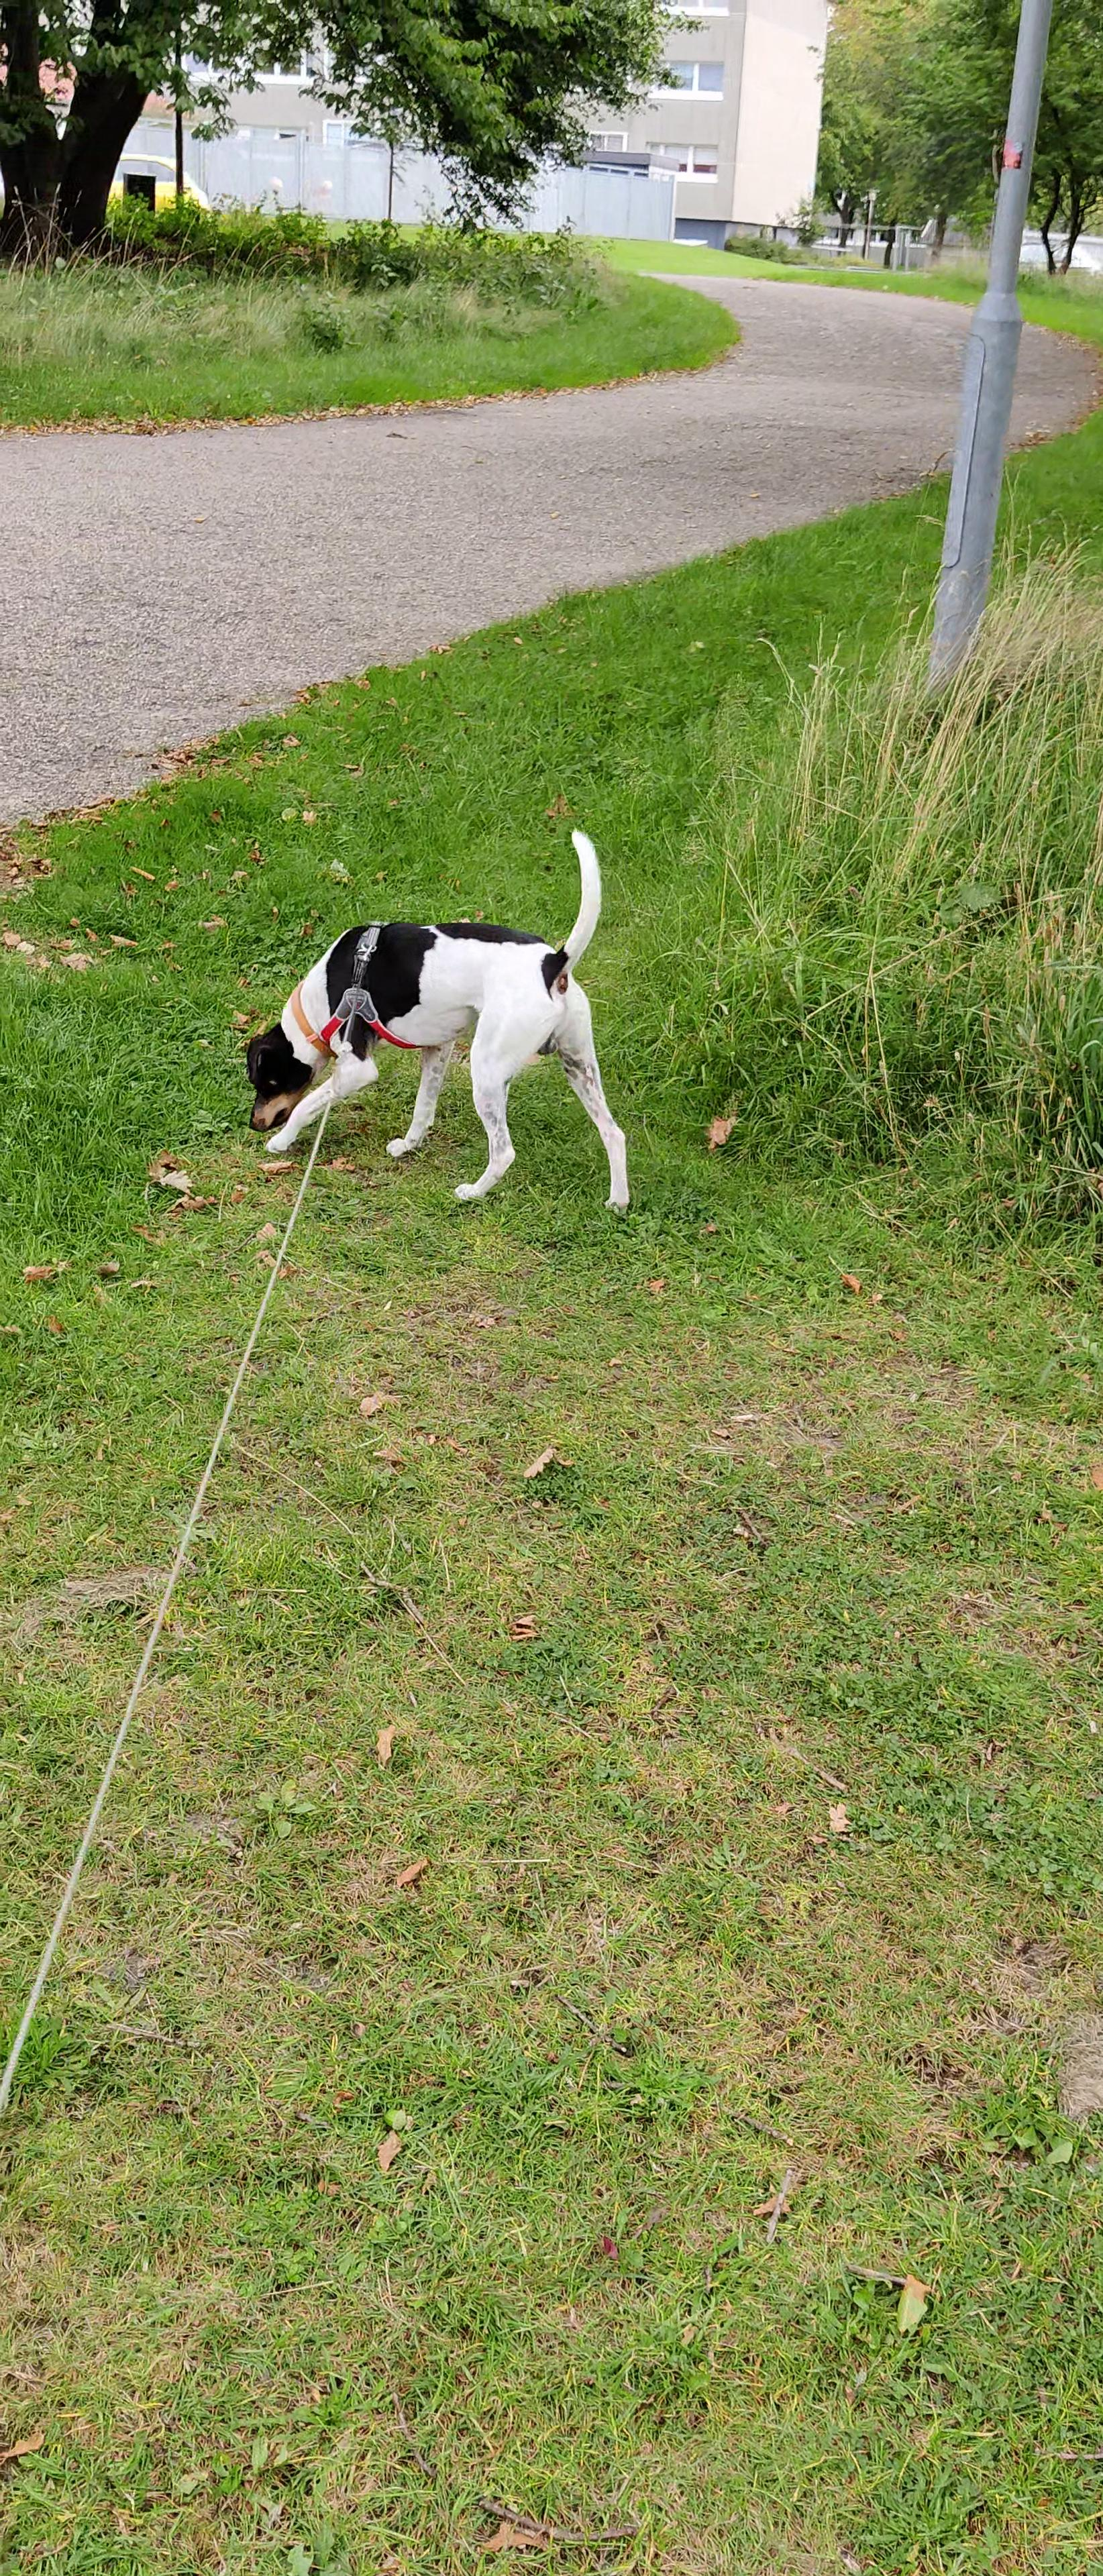Dog: (238, 821, 643, 1217)
